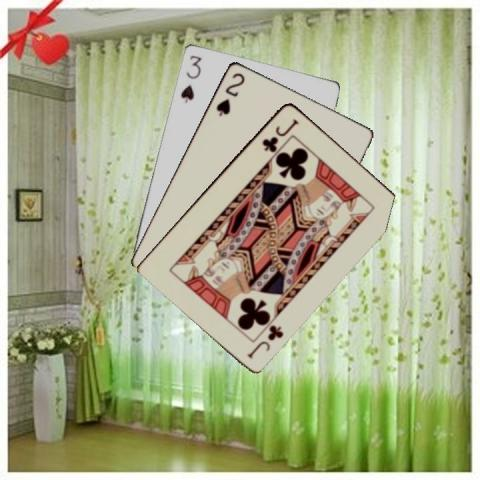2s: (213, 70, 246, 118)
3s: (177, 52, 203, 104)
Jc: (244, 321, 285, 360), (259, 114, 299, 153)
